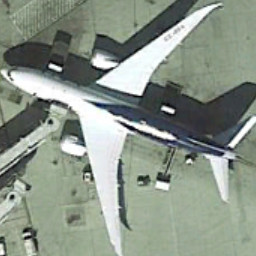Airplane: (1, 1, 255, 255)
